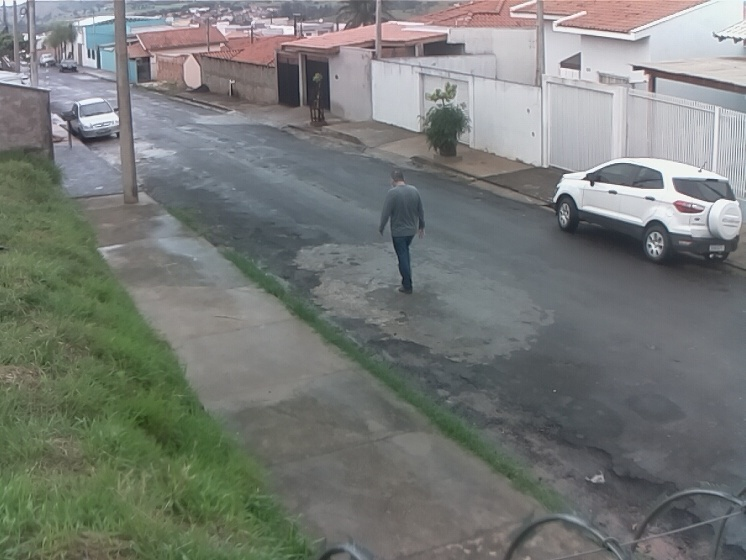person: (376, 170, 428, 297)
